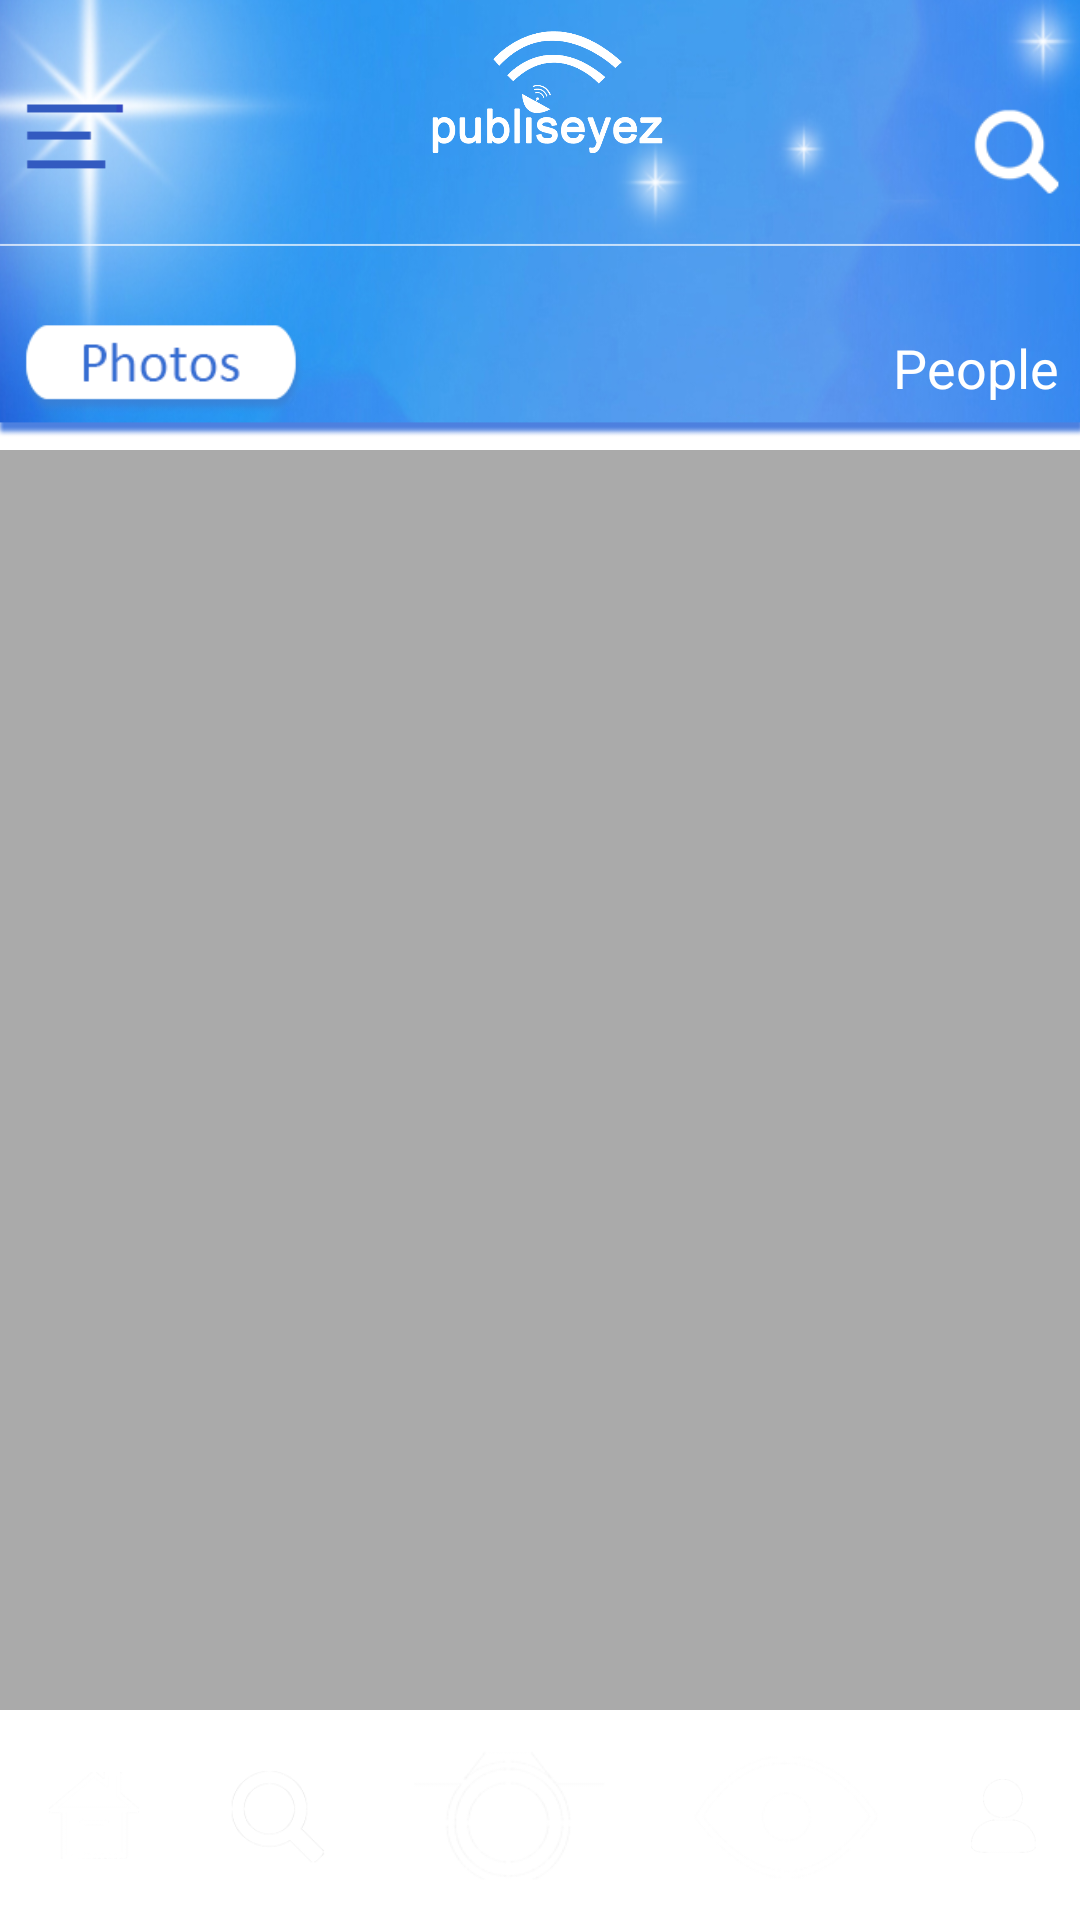

Screen size 1080x1920. Icon name, then its center in pixels as [x,y]:
search: [1027,135]
